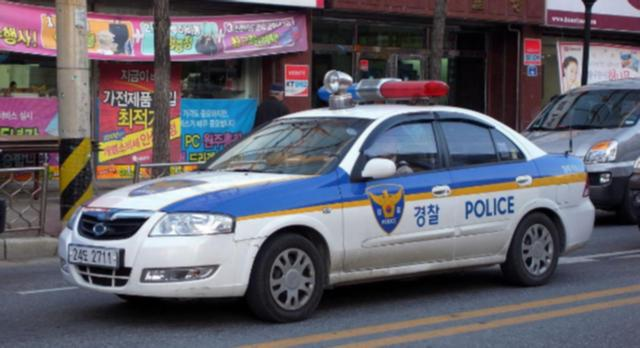police_car: (62, 79, 603, 311)
